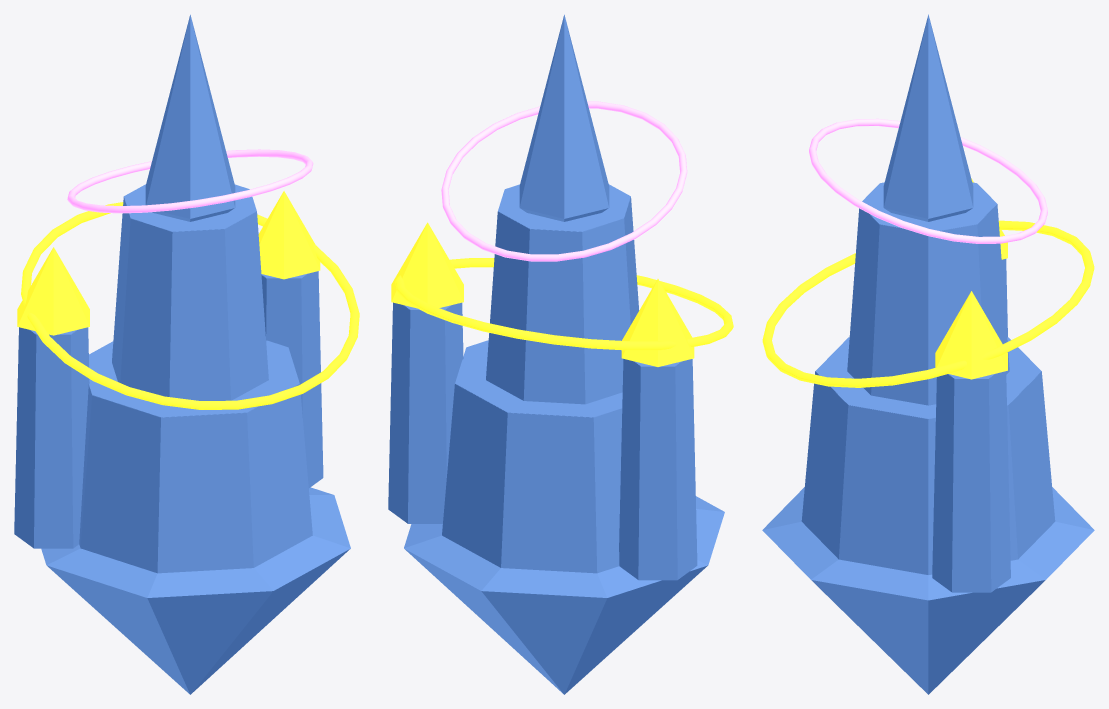
The model's file is prop_summit_spire.glb.
3 views of the same model, side by side, from view 1: azimuth 30°, elevation 25°; view 2: azimuth 150°, elevation 25°; view 3: azimuth 270°, elevation 25° (orthographic).
Visible parts, largest first — view 1: Tier1Keep, Tier2Keep, FloatingIslandRoot, FlankTower_-1, CrownSpire, FlankTower_1, OrbitalRing1, FlankRoof_-1, FlankRoof_1, OrbitalRing2; view 2: Tier1Keep, Tier2Keep, FloatingIslandRoot, FlankTower_-1, FlankTower_1, CrownSpire, OrbitalRing1, OrbitalRing2, FlankRoof_1, FlankRoof_-1; view 3: Tier1Keep, Tier2Keep, FloatingIslandRoot, FlankTower_1, CrownSpire, OrbitalRing1, OrbitalRing2, FlankRoof_1.
Part boxes in pixels (bbox=[...]): Tier1Keep: bbox=[79, 340, 312, 573]; Tier2Keep: bbox=[112, 184, 268, 400]; FloatingIslandRoot: bbox=[41, 487, 350, 694]; FlankTower_-1: bbox=[14, 327, 89, 548]; CrownSpire: bbox=[145, 14, 235, 221]; FlankTower_1: bbox=[261, 271, 323, 487]; OrbitalRing1: bbox=[21, 202, 359, 409]; FlankRoof_-1: bbox=[17, 247, 89, 335]; FlankRoof_1: bbox=[258, 191, 320, 279]; OrbitalRing2: bbox=[67, 149, 313, 213]; Tier1Keep: bbox=[442, 340, 622, 573]; Tier2Keep: bbox=[486, 184, 639, 404]; FloatingIslandRoot: bbox=[404, 496, 724, 694]; FlankTower_-1: bbox=[619, 359, 697, 580]; FlankTower_1: bbox=[388, 302, 463, 523]; CrownSpire: bbox=[519, 14, 609, 221]; OrbitalRing1: bbox=[395, 258, 733, 350]; OrbitalRing2: bbox=[441, 101, 687, 261]; FlankRoof_1: bbox=[391, 222, 463, 308]; FlankRoof_-1: bbox=[621, 279, 694, 366]; Tier1Keep: bbox=[801, 337, 1055, 574]; Tier2Keep: bbox=[847, 182, 1009, 405]; FloatingIslandRoot: bbox=[762, 487, 1094, 694]; FlankTower_1: bbox=[932, 371, 1010, 592]; CrownSpire: bbox=[883, 14, 973, 221]; OrbitalRing1: bbox=[762, 220, 1094, 387]; OrbitalRing2: bbox=[809, 118, 1047, 243]; FlankRoof_1: bbox=[935, 291, 1007, 379].
Bounding box in the file's own units: 28.4 × 61 × 27.
